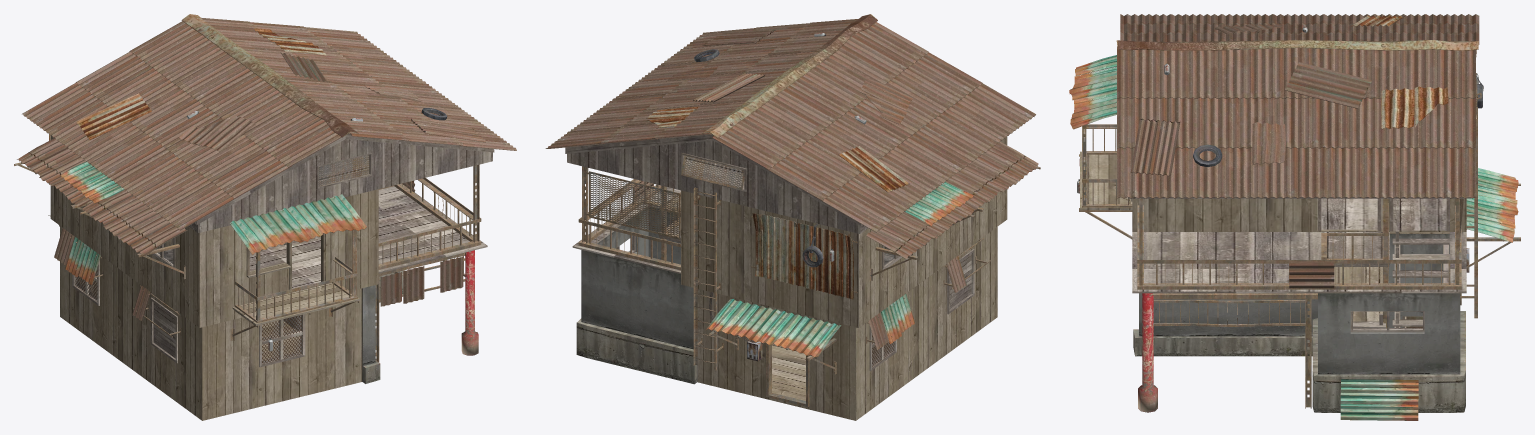
File: house_hq.glb
3 views of the same model, side by side, from view 1: azimuth 30°, elevation 25°; view 2: azimuth 150°, elevation 25°; view 3: azimuth 270°, elevation 25° (orthographic). The views are drawn at different scales.
Parts seen in each view (by area): view 1: Zinc_zinc_0, WoodWall_woodwall_0, Woods_woods_0, Irons_iron_0, Others_others_0, TilesGlass_tilesglass_0; view 2: Zinc_zinc_0, WoodWall_woodwall_0, Others_others_0, Woods_woods_0, Irons_iron_0, TilesGlass_tilesglass_0; view 3: Zinc_zinc_0, Others_others_0, Woods_woods_0, Irons_iron_0, WoodWall_woodwall_0.
Boxes of the visible parts, bbox=[...] form: Zinc_zinc_0: bbox=[17, 17, 516, 321]; WoodWall_woodwall_0: bbox=[50, 135, 378, 420]; Woods_woods_0: bbox=[21, 133, 494, 367]; Irons_iron_0: bbox=[14, 162, 481, 362]; Others_others_0: bbox=[181, 14, 478, 383]; TilesGlass_tilesglass_0: bbox=[75, 154, 369, 363]; Zinc_zinc_0: bbox=[545, 19, 1038, 357]; WoodWall_woodwall_0: bbox=[681, 136, 1007, 420]; Others_others_0: bbox=[576, 14, 877, 384]; Woods_woods_0: bbox=[565, 134, 974, 371]; Irons_iron_0: bbox=[578, 166, 1040, 406]; TilesGlass_tilesglass_0: bbox=[585, 155, 897, 366]; Zinc_zinc_0: bbox=[1069, 14, 1518, 420]; Others_others_0: bbox=[1077, 26, 1483, 412]; Woods_woods_0: bbox=[1080, 151, 1471, 332]; Irons_iron_0: bbox=[1079, 73, 1520, 408]; WoodWall_woodwall_0: bbox=[1132, 198, 1466, 327].
Size of the model in its own units: 11.63 by 8.2 by 11.32.
6 materials, 6 textured.
